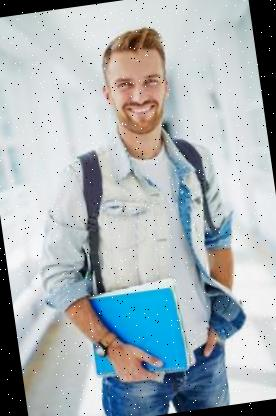person: (0, 10, 269, 416)
